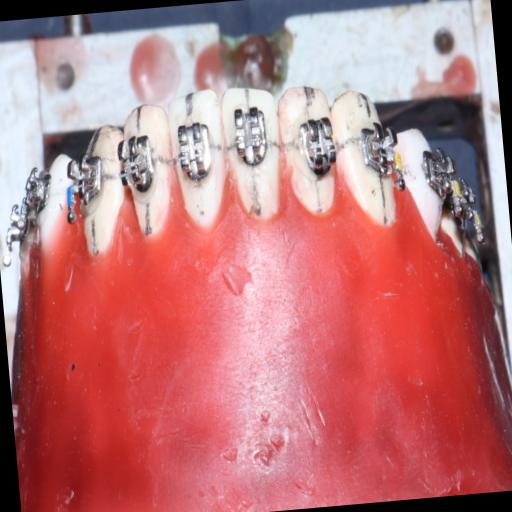correct_brace: (174, 120, 216, 185)
incorrect_brace: (226, 99, 276, 178)
